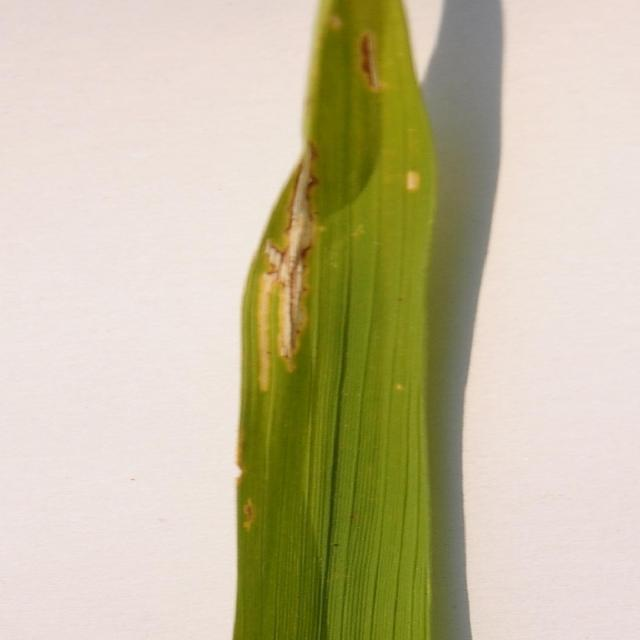leaf blight: (246, 141, 349, 418), (345, 15, 387, 99)
